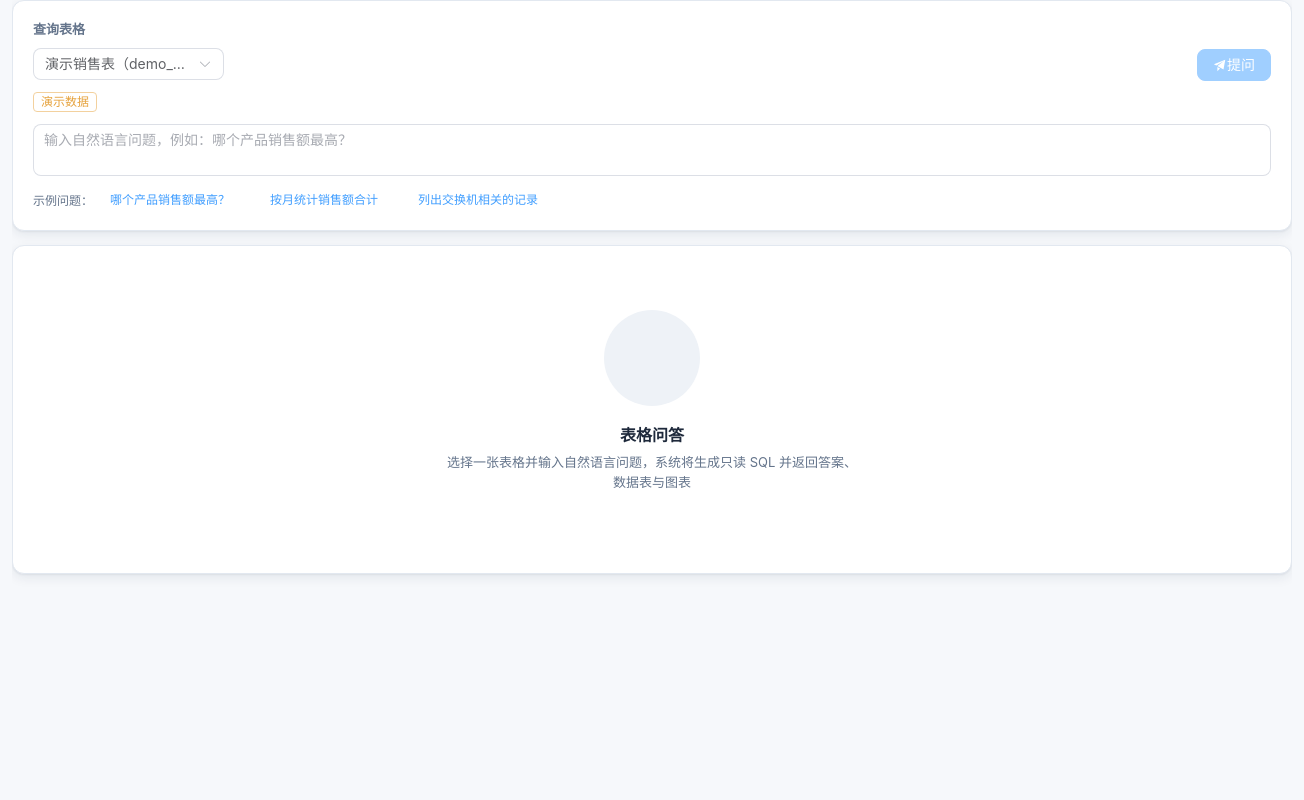
it: TableQaTab 表格问答 › source=demo 或 fallback_reason 存在时显示规则降级徽标
The image size is (1304, 800).
Type "销售额合计多少？" into the text box with placeholder "输入自然语言问题，例如：哪个产品销售额最高？". click: [652, 150]
box: [33,124,1271,176]
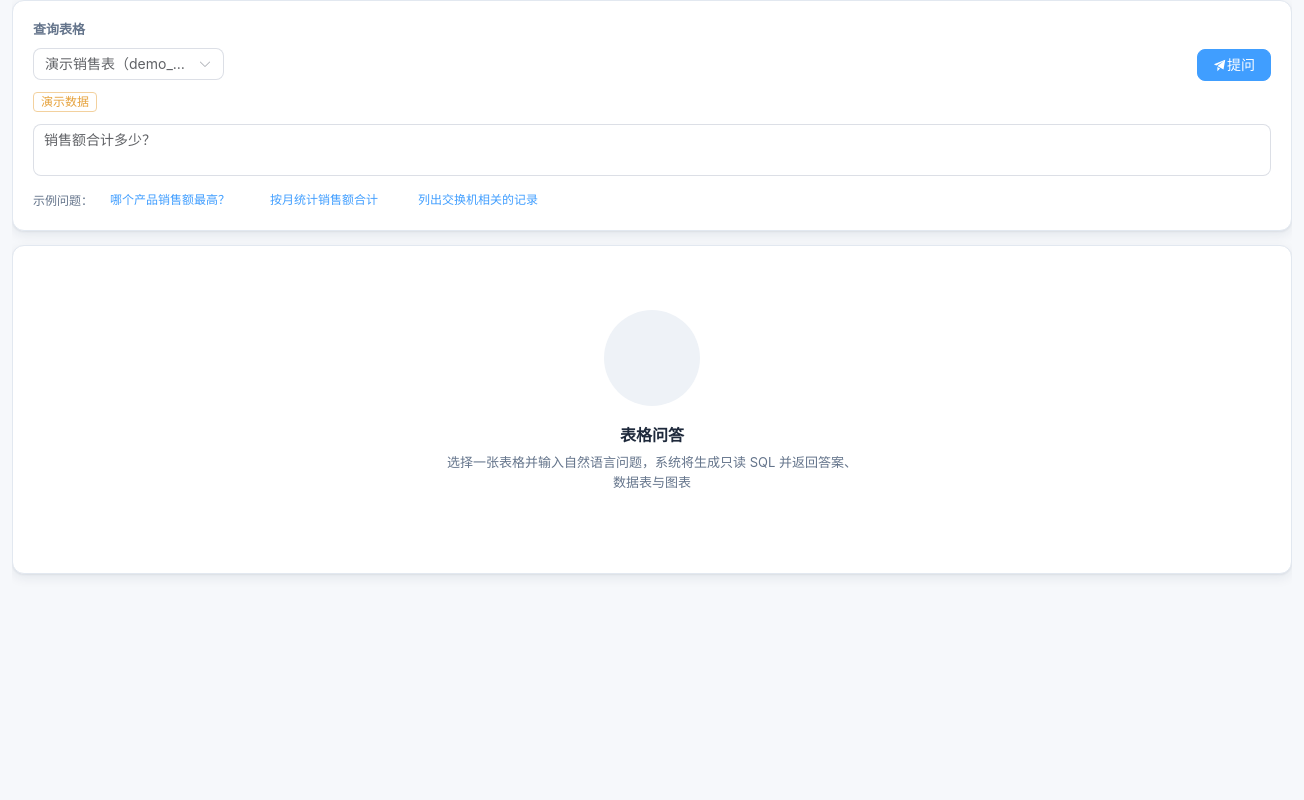
Click the button "提问". click: [1234, 65]
box: [1197,49,1271,81]
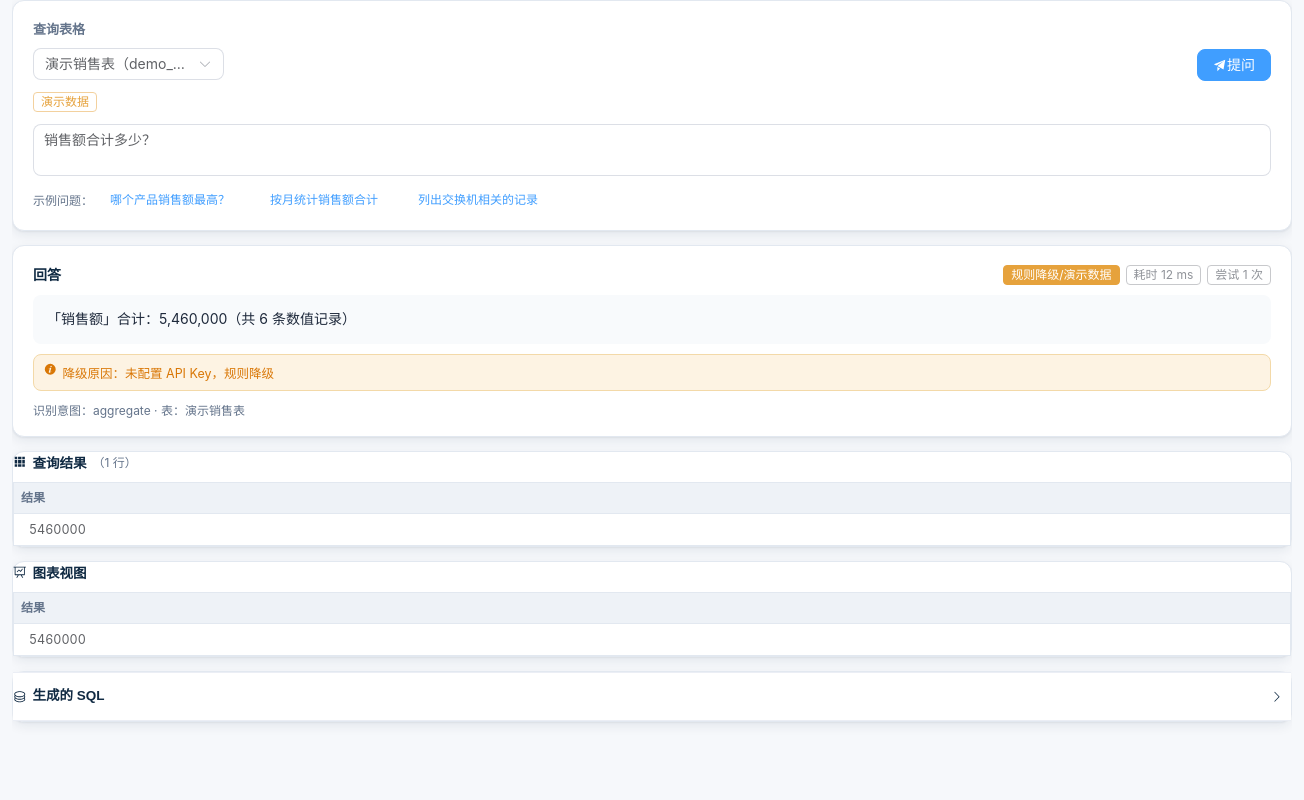
Now the element with class "demo-badge" is shown, box [1003,264,1120,285]
Now the element with class "demo-badge" shows "规则降级", box [1011,267,1112,282]
Now the text "降级原因：未配置 API Key，规则降级" is shown, box [33,354,1271,391]
